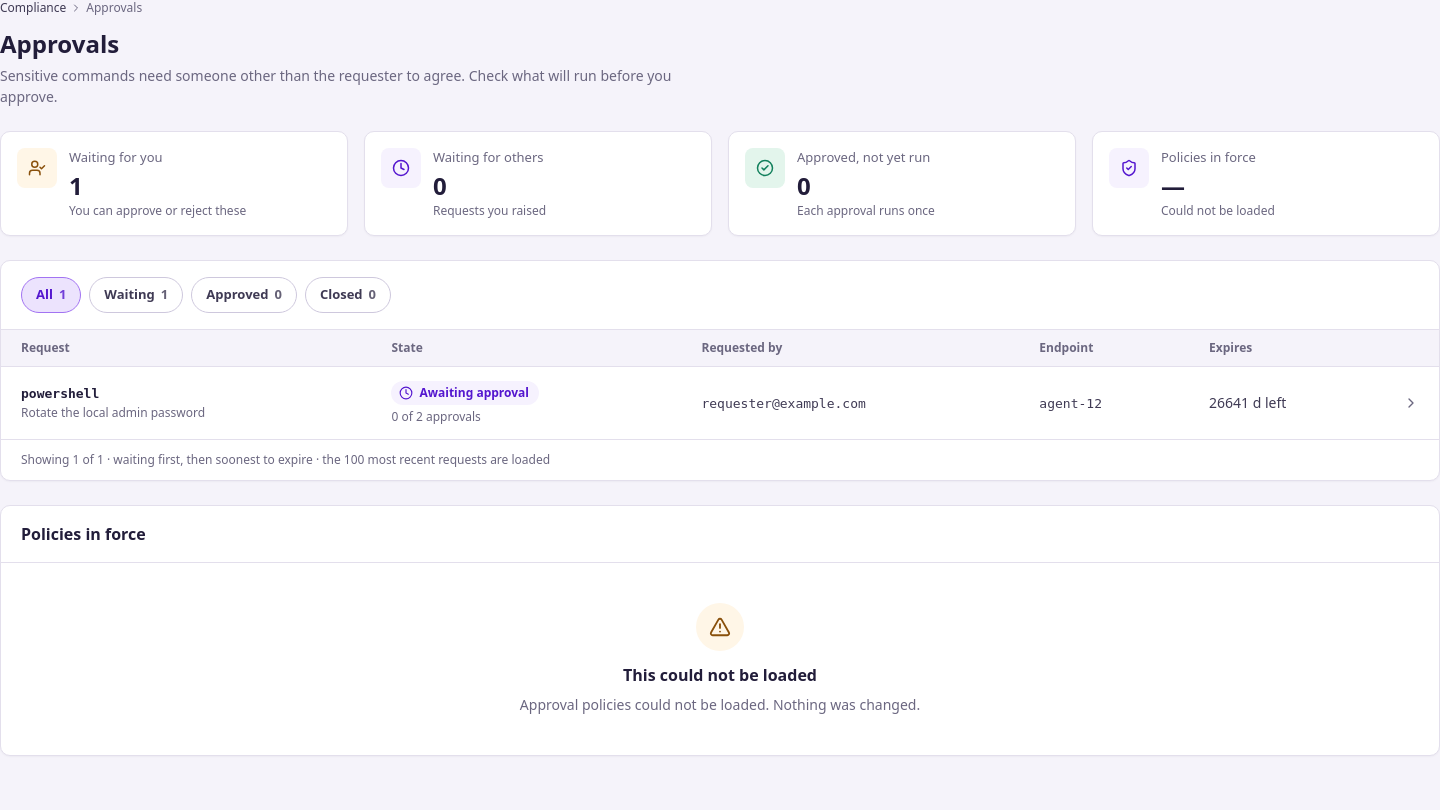
Test: rejecting goes through a confirmation that still enforces the decision-reason rules
Click the row named "Review powershell request".
click(720, 403)  # box left=1, top=366, right=1439, bottom=439
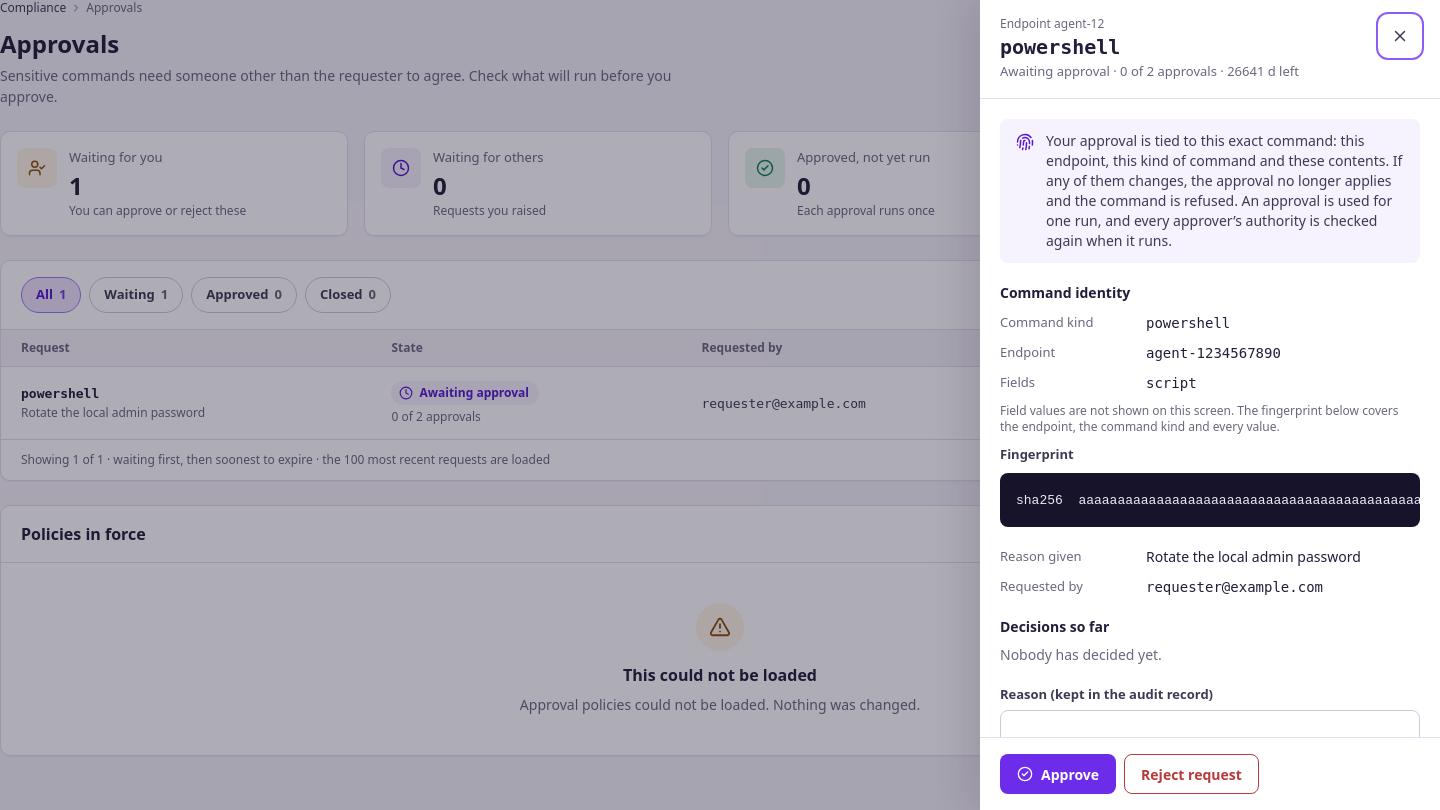
Click the button "Reject request".
click(1191, 774)  # box left=1124, top=754, right=1259, bottom=794
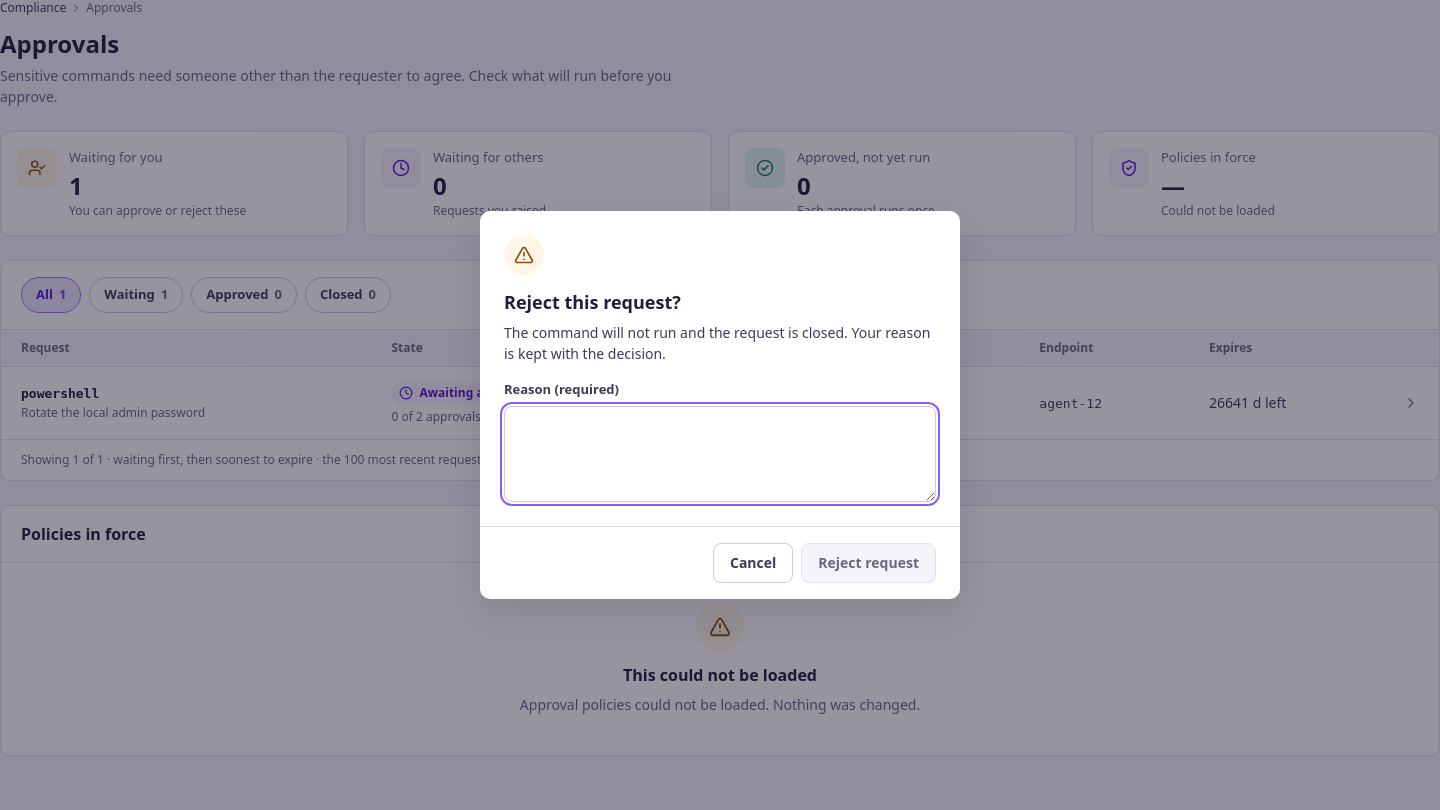
Type "too short" into the text box labelled "Reason (required)".
click(720, 454); type("too short")  # box left=504, top=406, right=936, bottom=502
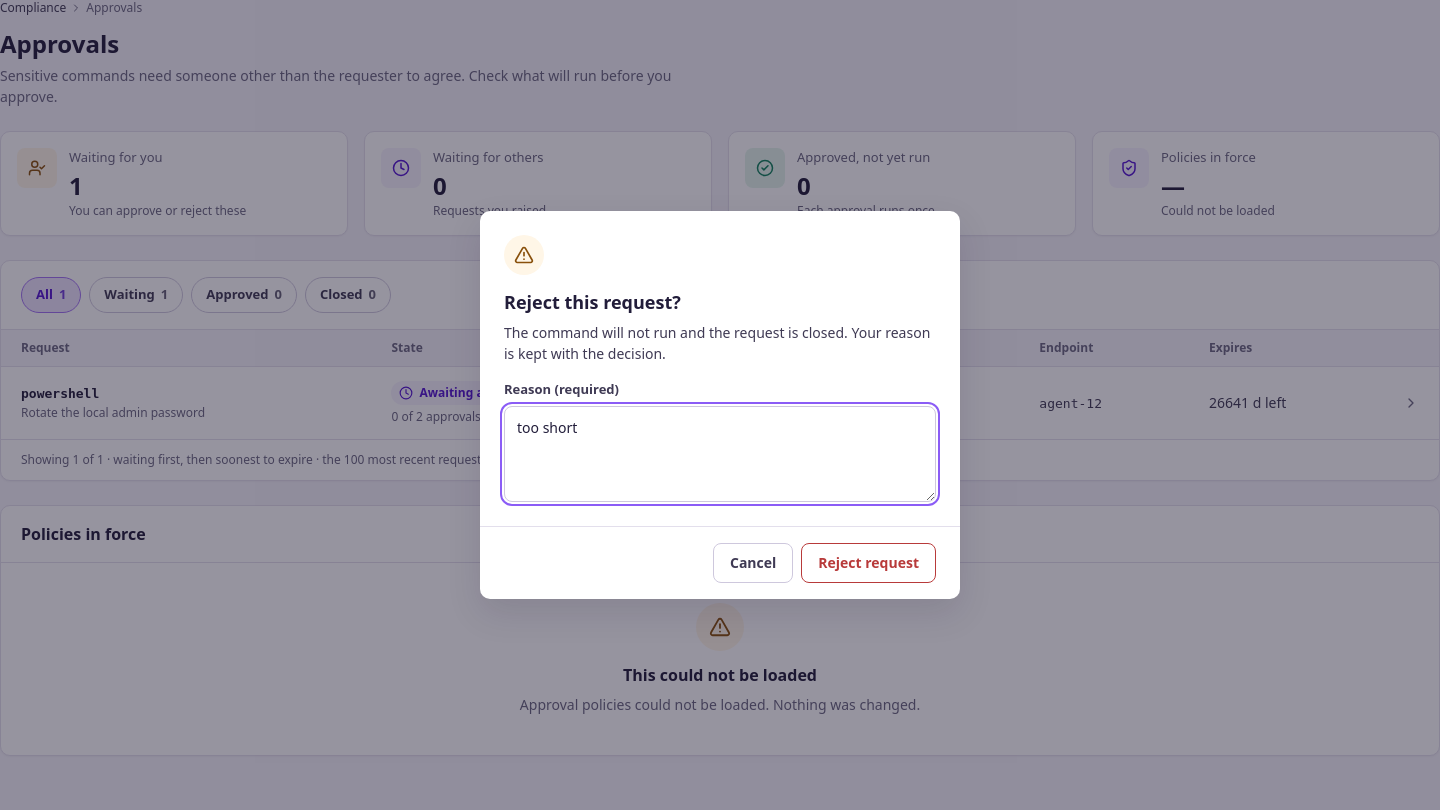
Click the button "Reject request".
click(869, 563)  # box left=801, top=543, right=936, bottom=583
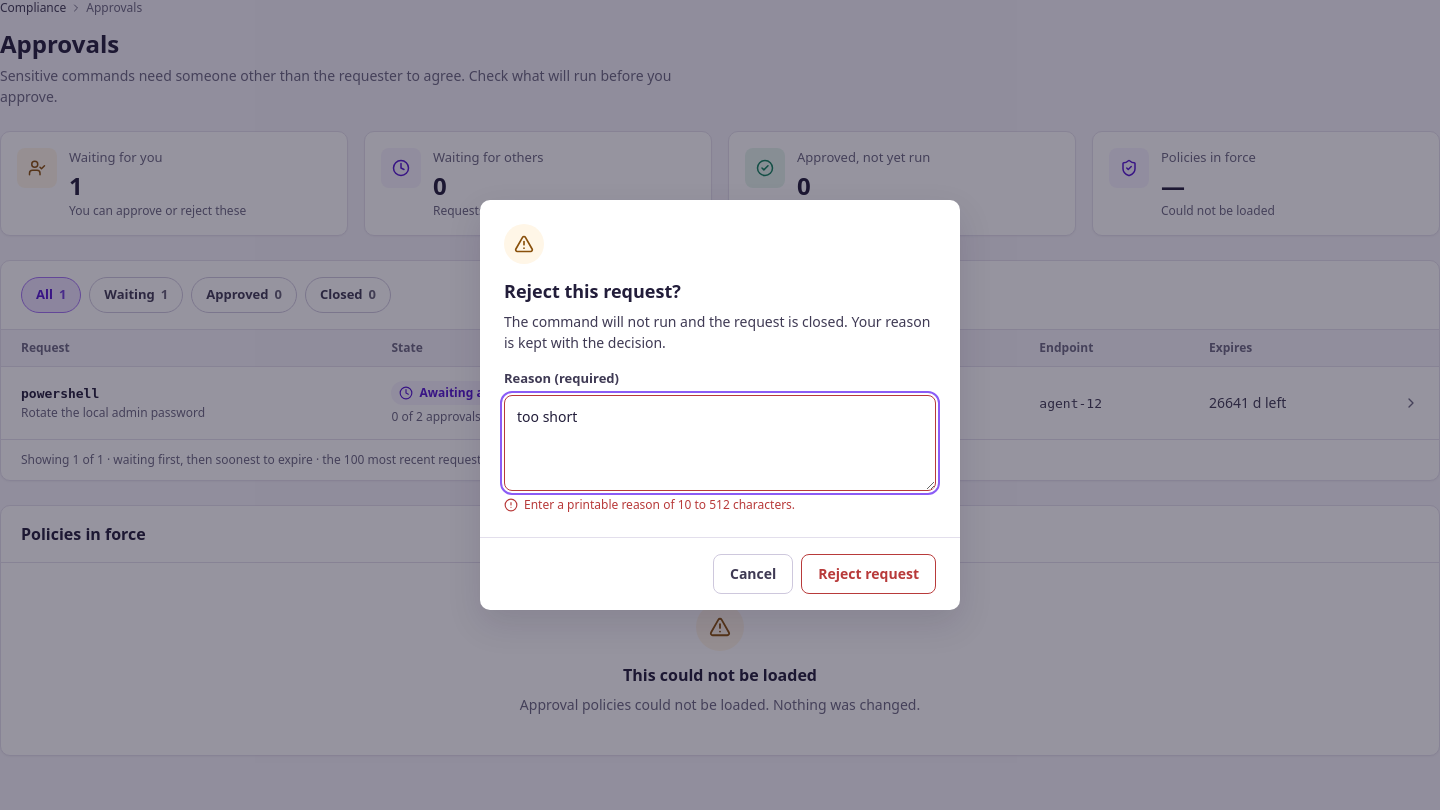
Expected: the text "Enter a printable reason of 10 to 512 characters." is shown, left=504, top=496, right=795, bottom=513
Replace the text in the text box labelled "Reason (required)" with "The script targets the wrong host" at point(720, 443), box left=504, top=395, right=936, bottom=491
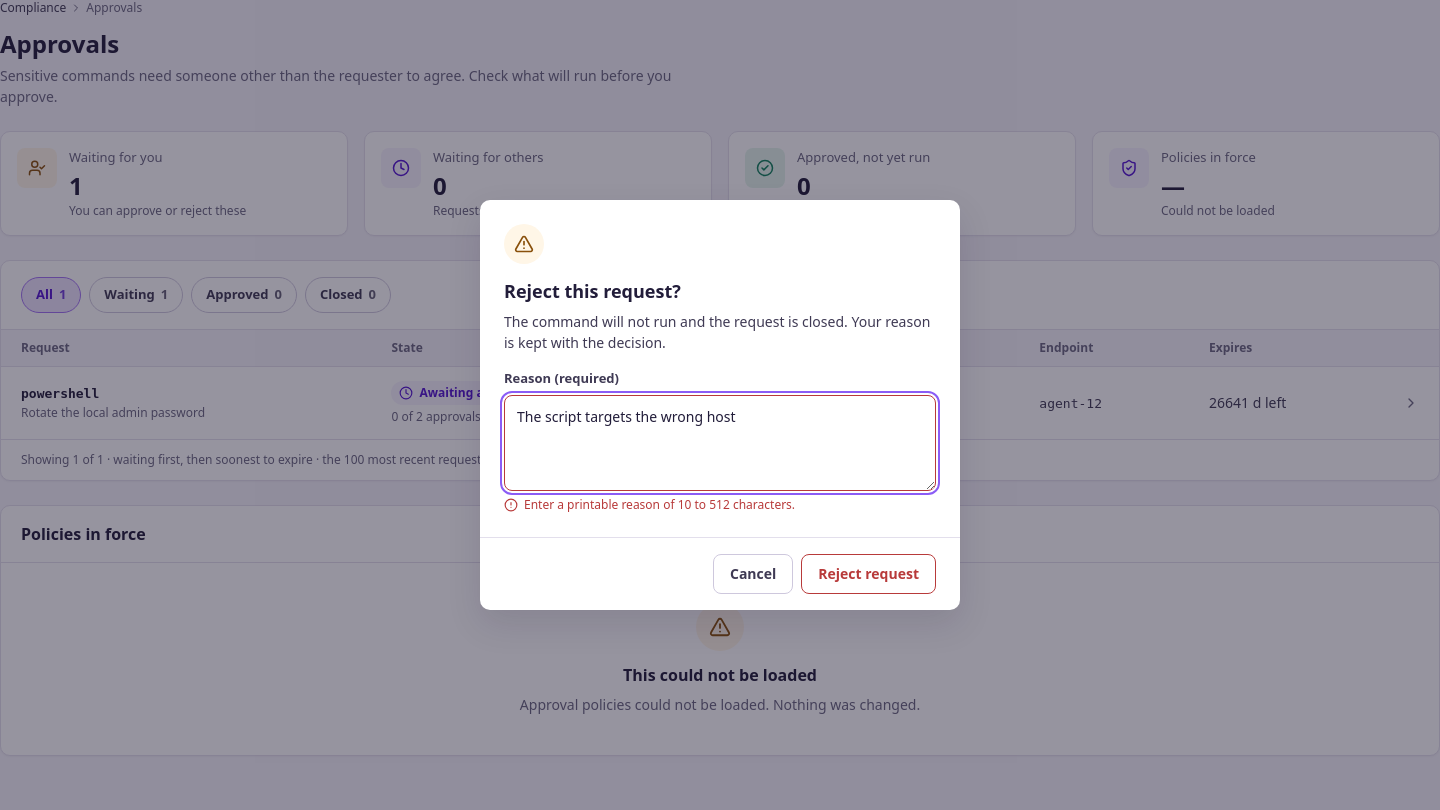
Click the button "Reject request".
click(869, 574)  # box left=801, top=554, right=936, bottom=594
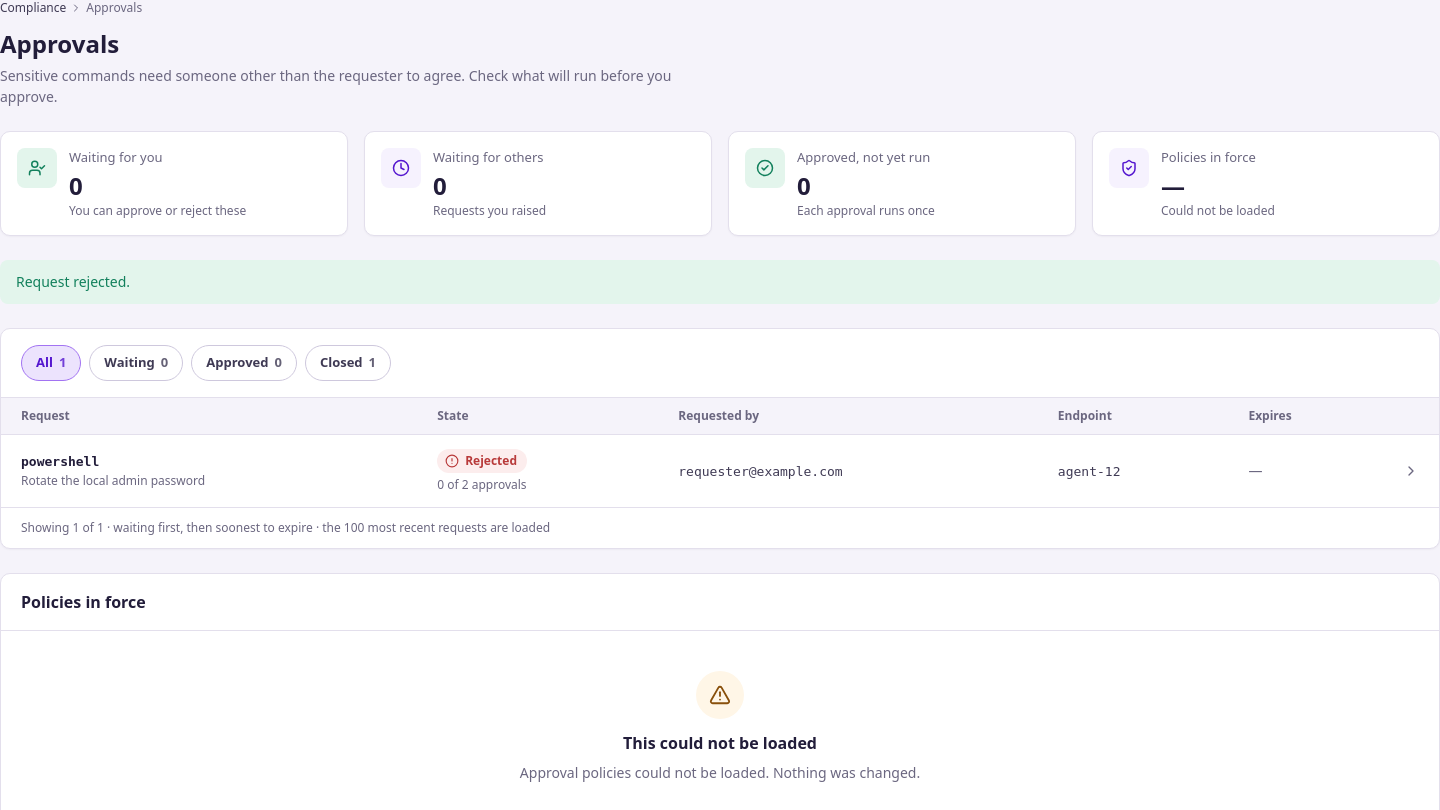
Expected: the text "Request rejected." is shown, left=0, top=260, right=1439, bottom=304
Expected: the dialog is gone
